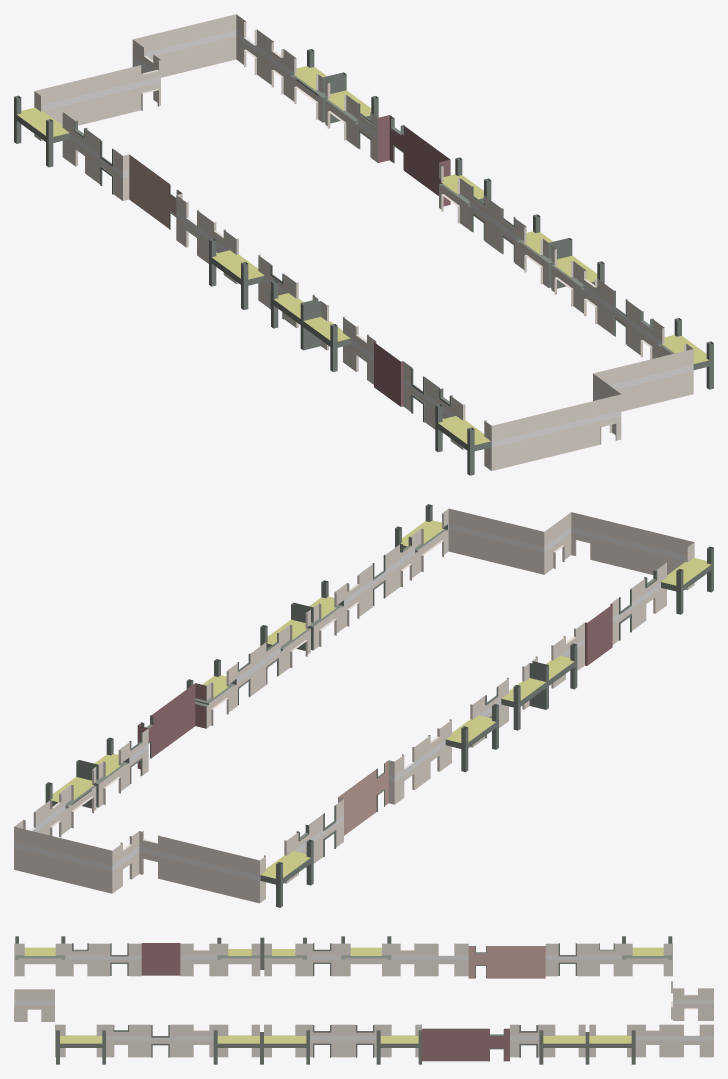
The model's file is wall_1.fbx.
The picture shows the model from 3 angles, top to bottom: view 1: azimuth 30°, elevation 25°; view 2: azimuth 150°, elevation 25°; view 3: azimuth 270°, elevation 25°; orthographic projection. The views are drawn at different scales.
Parts seen in each view (by area): view 1: wall_1; view 2: wall_1; view 3: wall_1.
Boxes of the visible parts, bbox=[...] form: wall_1: bbox=[14, 14, 713, 475]; wall_1: bbox=[14, 504, 713, 907]; wall_1: bbox=[14, 936, 713, 1064].
Bounding box in the file's own units: 2328 × 370 × 7192.
